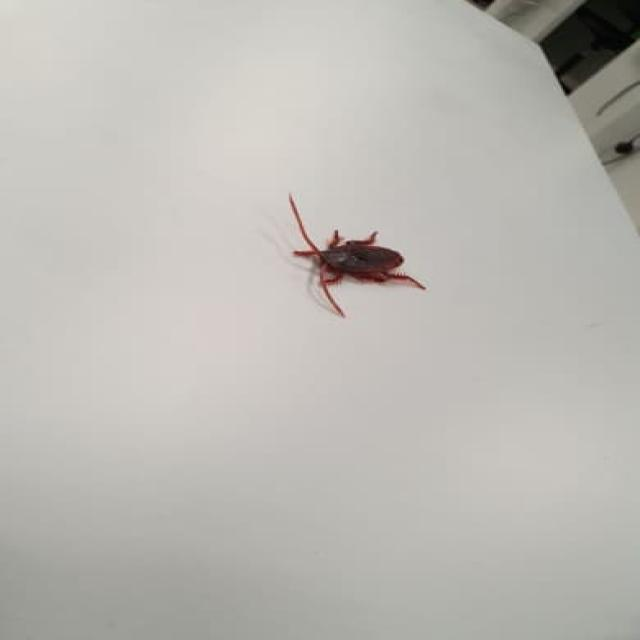Cockroach: (279, 197, 432, 321)
